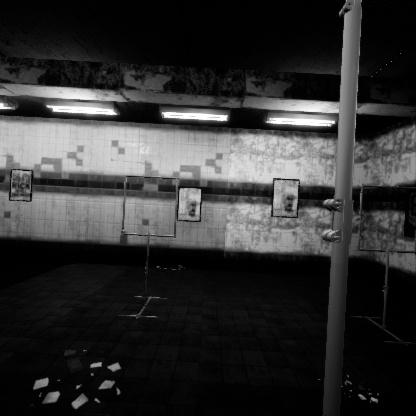gate: (358, 161, 416, 232), (121, 177, 184, 242)
